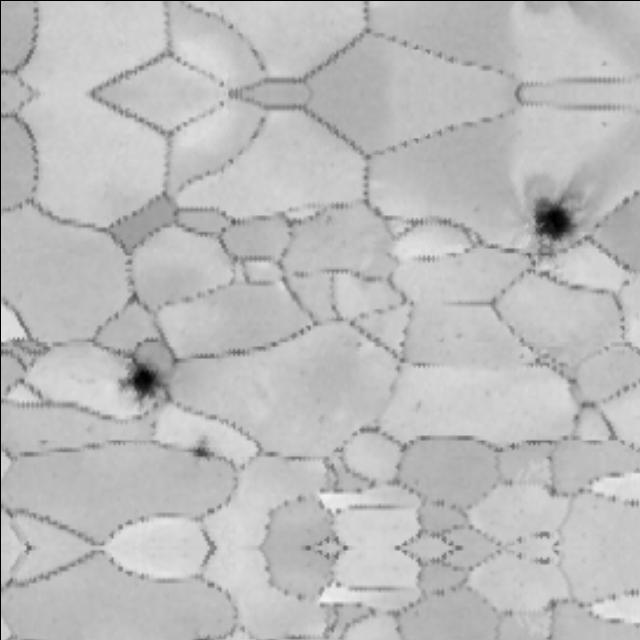good_void: (506, 173, 597, 260), (108, 344, 176, 414), (183, 428, 220, 469), (189, 628, 215, 640), (533, 525, 551, 542), (533, 552, 551, 569)
